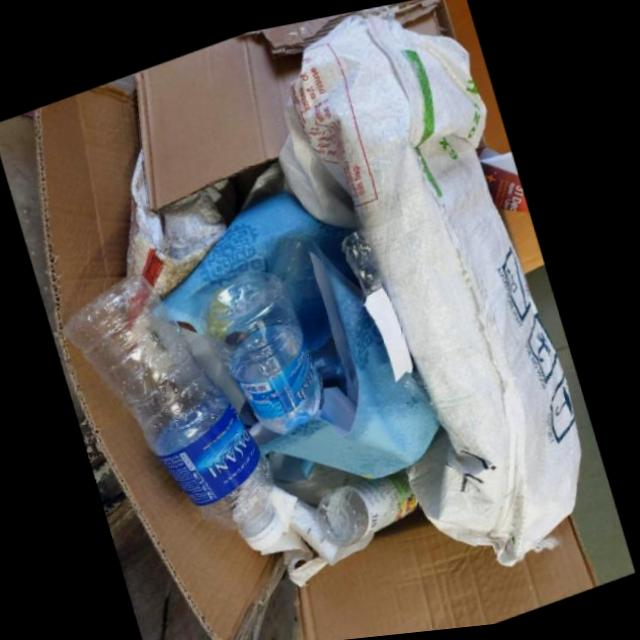chai_nhua_pet: (63, 263, 283, 545), (199, 263, 324, 427)
